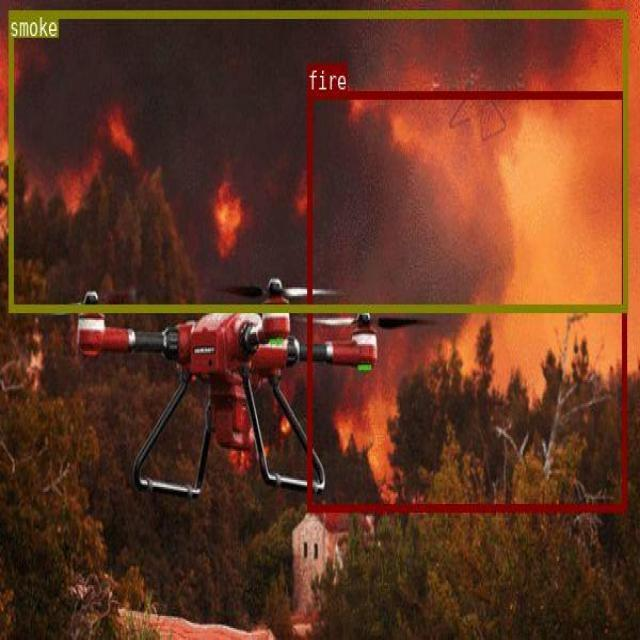fire: (307, 90, 626, 511)
smoke: (8, 10, 627, 311)
